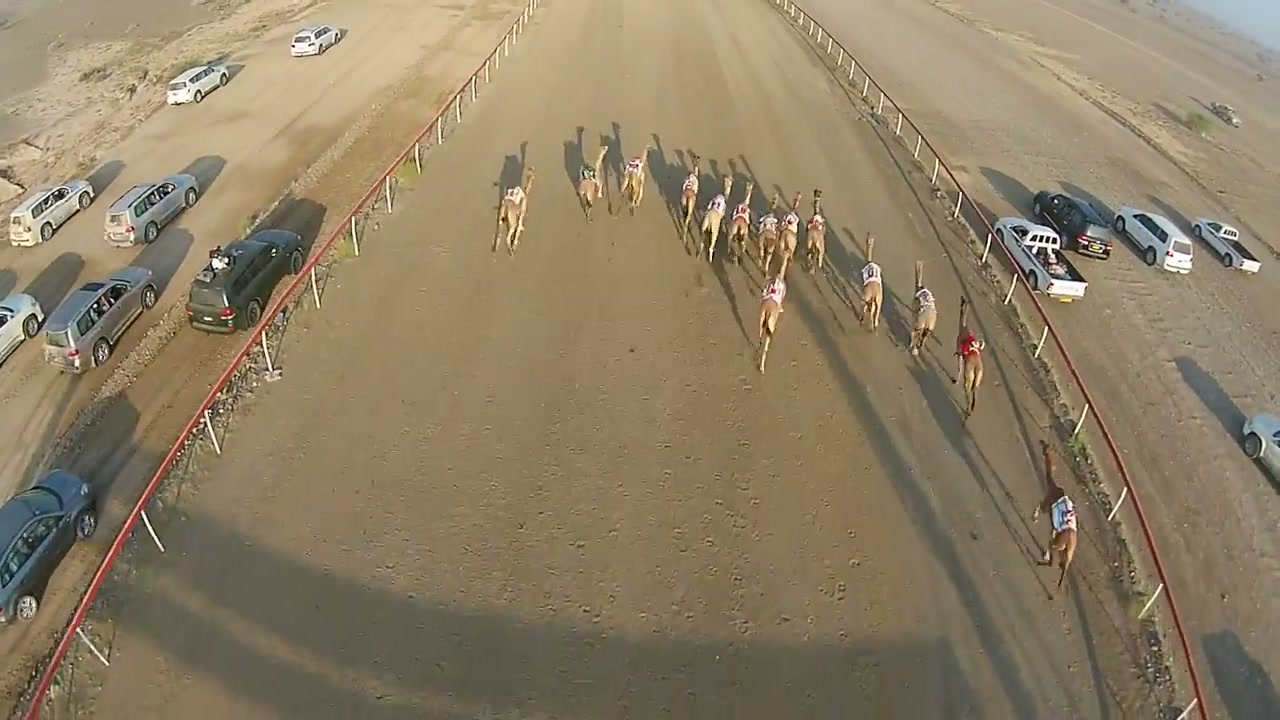animal_footprint: (542, 284, 900, 709)
